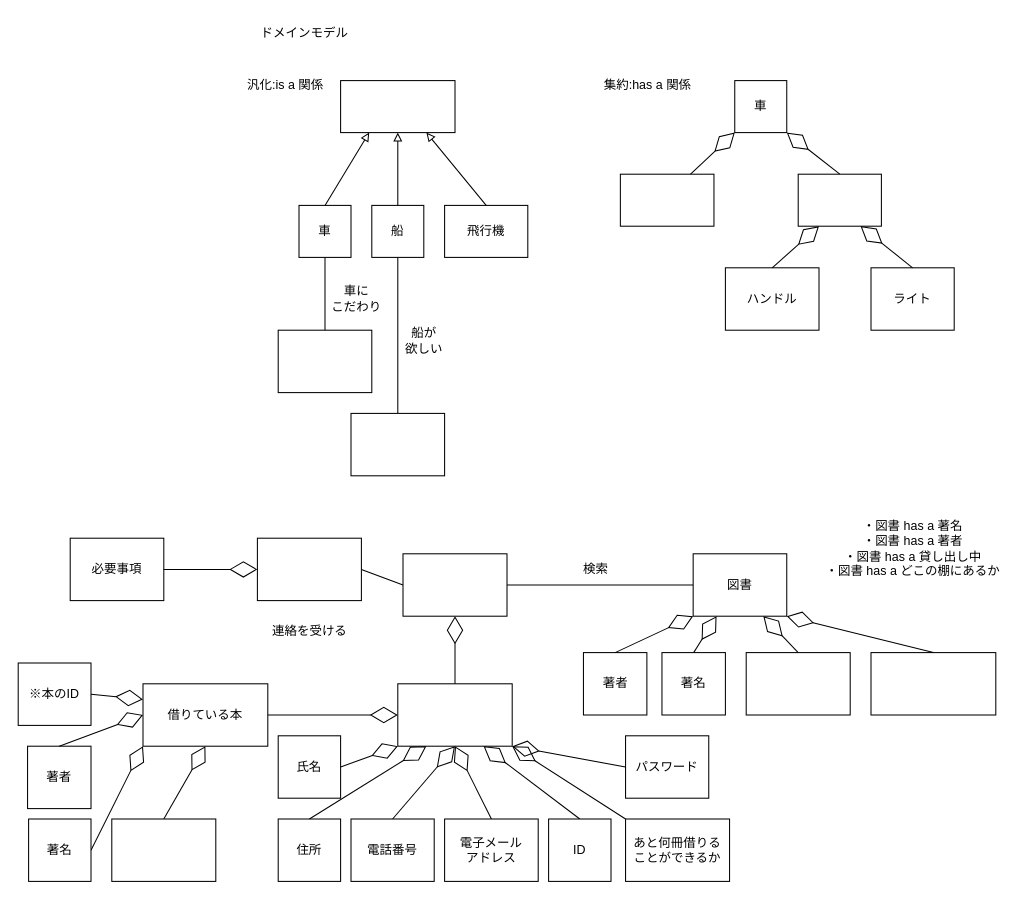
Image size: 1030x900. Some labels were removed from this diagram. The box of each missing label's shape, as (x1, y1, x2, y2) in pixels:
どこの棚にあるか: (870, 652, 996, 715)
エンジン: (619, 173, 714, 226)
ボディ: (797, 173, 881, 226)
乗り物: (340, 80, 455, 133)
利用者: (402, 553, 507, 616)
図書カード: (397, 683, 512, 746)
左近: (350, 412, 445, 476)
貸し出し中か: (745, 652, 850, 715)
貸し出し予約: (256, 537, 361, 601)
貸し出し期限: (111, 818, 216, 881)
金色先生: (277, 329, 372, 393)
